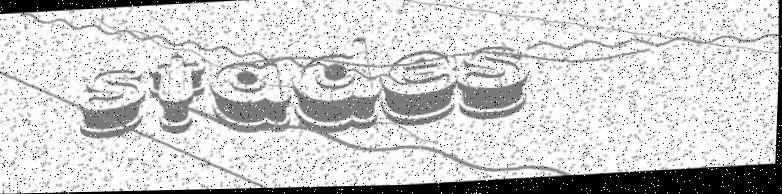a: (210, 61, 292, 135)
d: (290, 39, 384, 136)
e: (381, 50, 461, 128)
s: (455, 47, 531, 122), (80, 69, 149, 139)
t: (148, 54, 210, 136)
